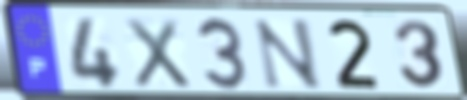2: (326, 18, 381, 92)
3: (195, 15, 248, 93), (391, 19, 445, 92)
4: (67, 16, 124, 90)
N: (251, 17, 325, 91)
X: (122, 16, 194, 91)
